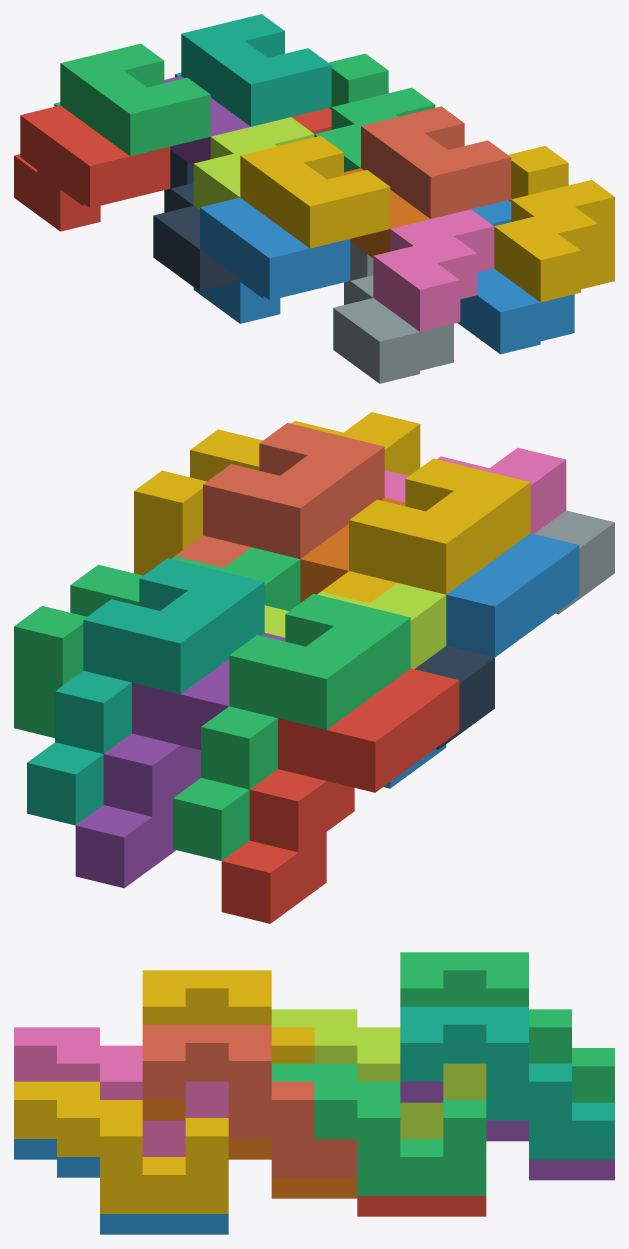
The model's file is tiling.obj.
3 renders of one model, top to bottom at view 1: azimuth 30°, elevation 25°; view 2: azimuth 150°, elevation 25°; view 3: azimuth 270°, elevation 25°, orthographic. The views are drawn at different scales.
Parts seen in each view (by area): view 1: copy_2_domain_8, copy_1_domain_1, copy_1_domain_3, copy_1_domain_4, copy_1_domain_7, copy_1_domain_8, copy_1_domain_2, copy_2_domain_4, copy_2_domain_2, copy_2_domain_6, copy_2_domain_7, copy_2_domain_1 (+4 smaller); view 2: copy_1_domain_3, copy_1_domain_7, copy_1_domain_1, copy_1_domain_4, copy_1_domain_8, copy_1_domain_5, copy_2_domain_7, copy_1_domain_2, copy_2_domain_8, copy_2_domain_4, copy_2_domain_3, copy_2_domain_2 (+2 smaller); view 3: copy_1_domain_7, copy_2_domain_8, copy_1_domain_8, copy_2_domain_7, copy_1_domain_3, copy_2_domain_4, copy_2_domain_3, copy_1_domain_4, copy_2_domain_6, copy_1_domain_5, copy_1_domain_6, copy_2_domain_5.
Part boxes in pixels (x1,y1,x2,y2): copy_2_domain_8: (494,146,614,302); copy_1_domain_1: (14,105,170,231); copy_1_domain_3: (54,43,210,156); copy_1_domain_4: (240,136,390,248); copy_1_domain_7: (175,14,331,126); copy_1_domain_8: (361,106,511,218); copy_1_domain_2: (193,197,350,323); copy_2_domain_4: (373,209,494,331); copy_2_domain_2: (333,242,453,383); copy_2_domain_6: (457,200,574,354); copy_2_domain_7: (314,53,435,171); copy_2_domain_1: (153,149,240,291); copy_1_domain_3: (173,593,410,860); copy_1_domain_7: (27,558,264,825); copy_1_domain_1: (221,668,459,923); copy_1_domain_4: (321,458,530,603); copy_1_domain_8: (175,423,384,567); copy_1_domain_5: (75,633,285,888); copy_2_domain_7: (14,547,300,737); copy_1_domain_2: (383,533,579,788); copy_2_domain_8: (134,412,420,575); copy_2_domain_4: (384,447,566,533); copy_2_domain_3: (264,583,446,668); copy_2_domain_2: (534,510,614,614); copy_1_domain_7: (400,1006,614,1159); copy_2_domain_8: (14,1081,228,1213); copy_1_domain_8: (142,1024,357,1177); copy_2_domain_7: (271,1063,486,1195); copy_1_domain_3: (400,952,614,1102); copy_2_domain_4: (14,1027,228,1156); copy_2_domain_3: (271,1009,486,1138); copy_1_domain_4: (142,970,314,1063); copy_2_domain_6: (14,1139,228,1234); copy_1_domain_5: (400,1081,614,1180); copy_1_domain_6: (142,1100,357,1198); copy_2_domain_5: (357,1196,486,1216).
Bounding box in the file's own units: 9 × 4 × 14.
